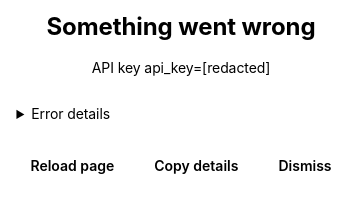
Scenario: ErrorBoundary › copies only sanitized details and confirms success
Click the button with test id "error-boundary-copy" at x=196, y=166, box [140,148,252,184]
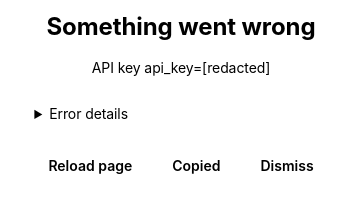
Check: the button with test id "error-boundary-copy" reads "Copied", box [158,148,234,184]
